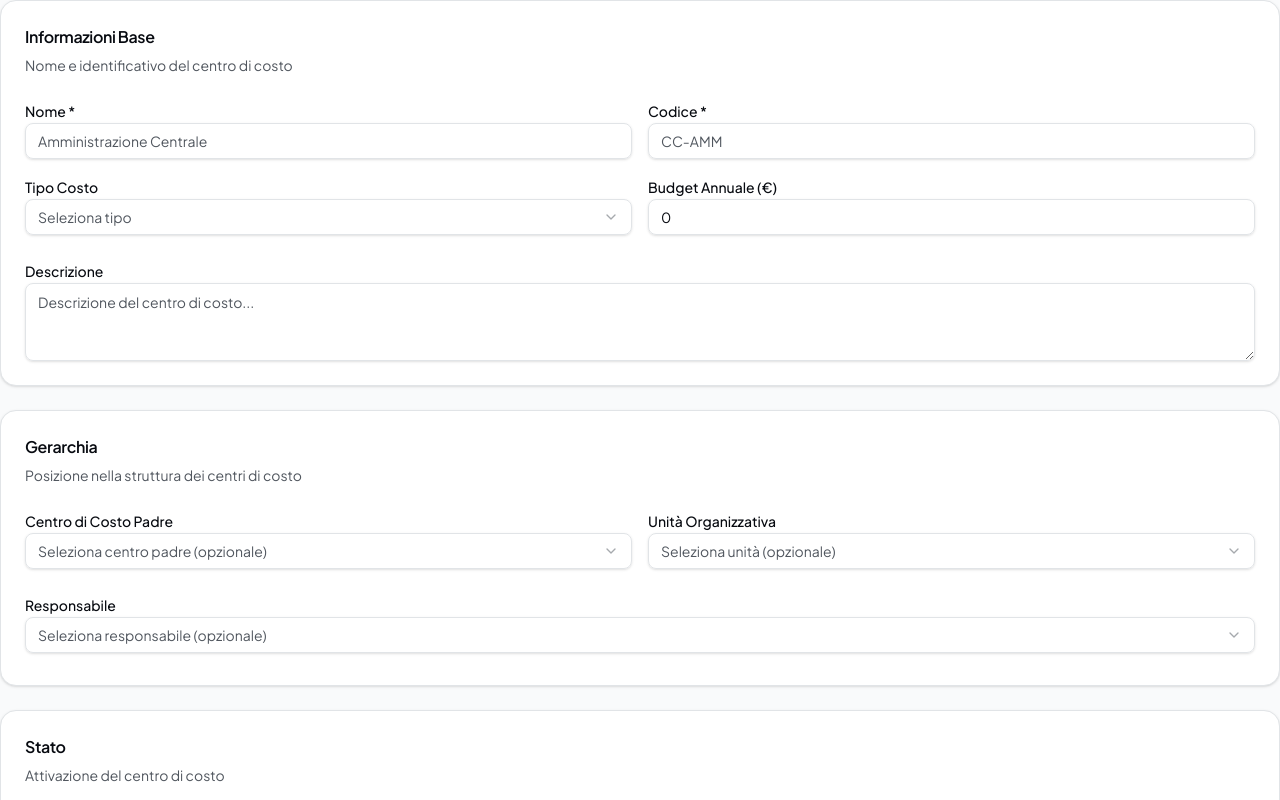
CostCenterForm › auto-generates code from name in create mode
The image size is (1280, 800).
Type "Test Centro" into the field labelled "Nome *" at point(328, 141), box left=25, top=123, right=632, bottom=159
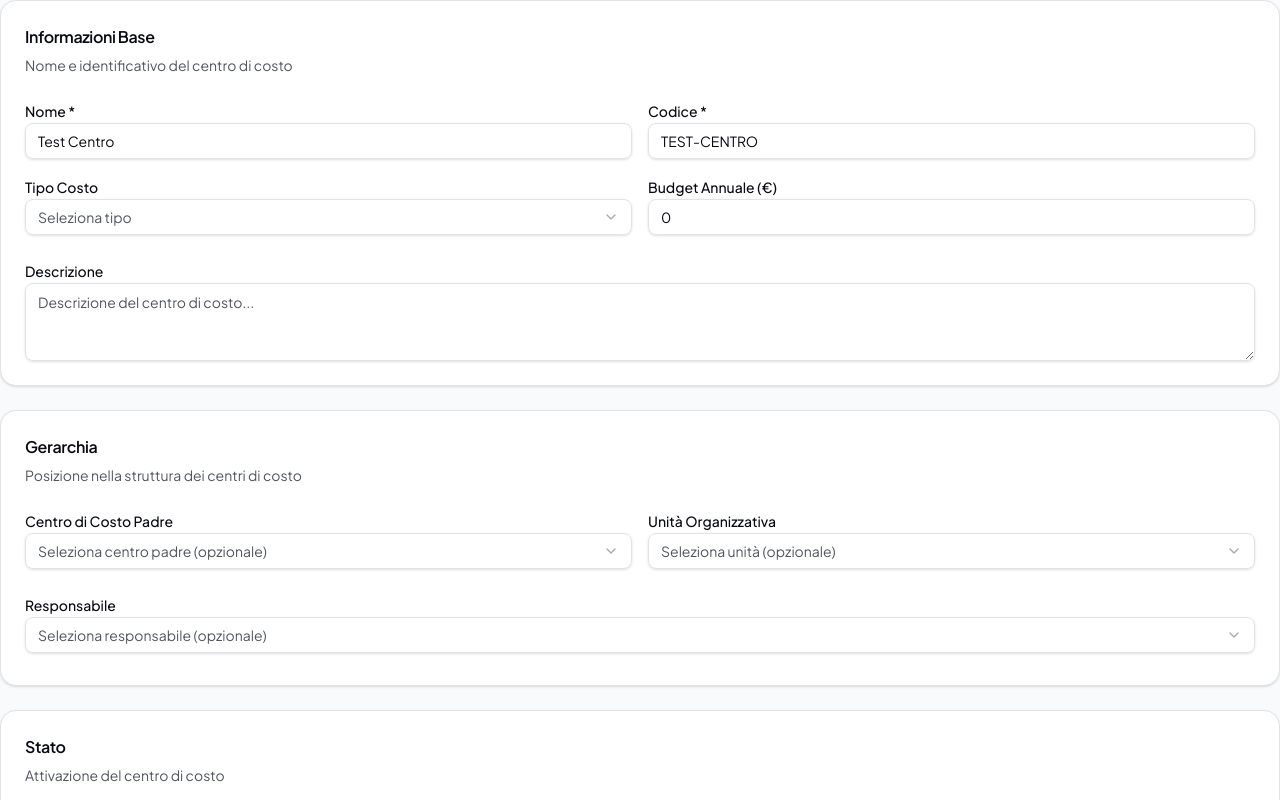
Expected: the field labelled "Codice *" holds "TEST-CENTRO", left=648, top=123, right=1255, bottom=159
